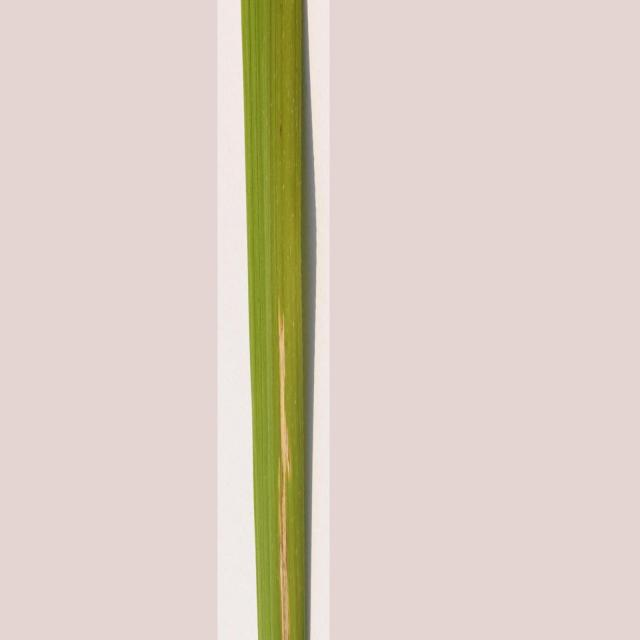Bacterial leaf blight: (215, 0, 326, 640)
